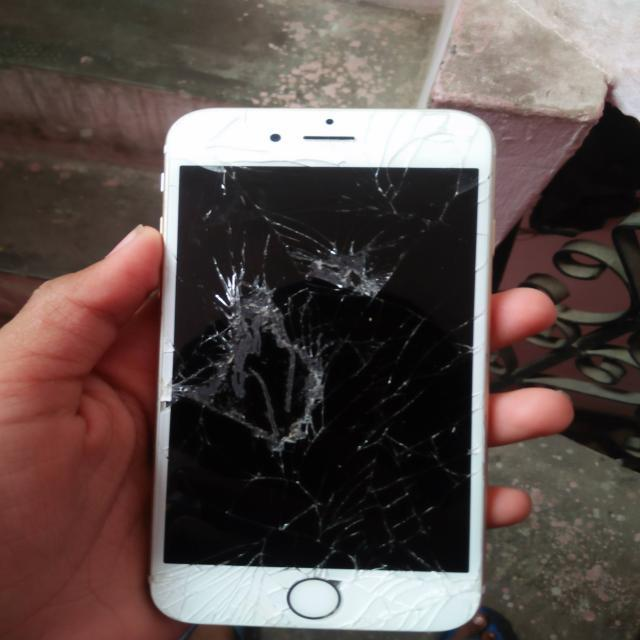screen crack: (126, 162, 479, 455), (153, 525, 484, 624)
